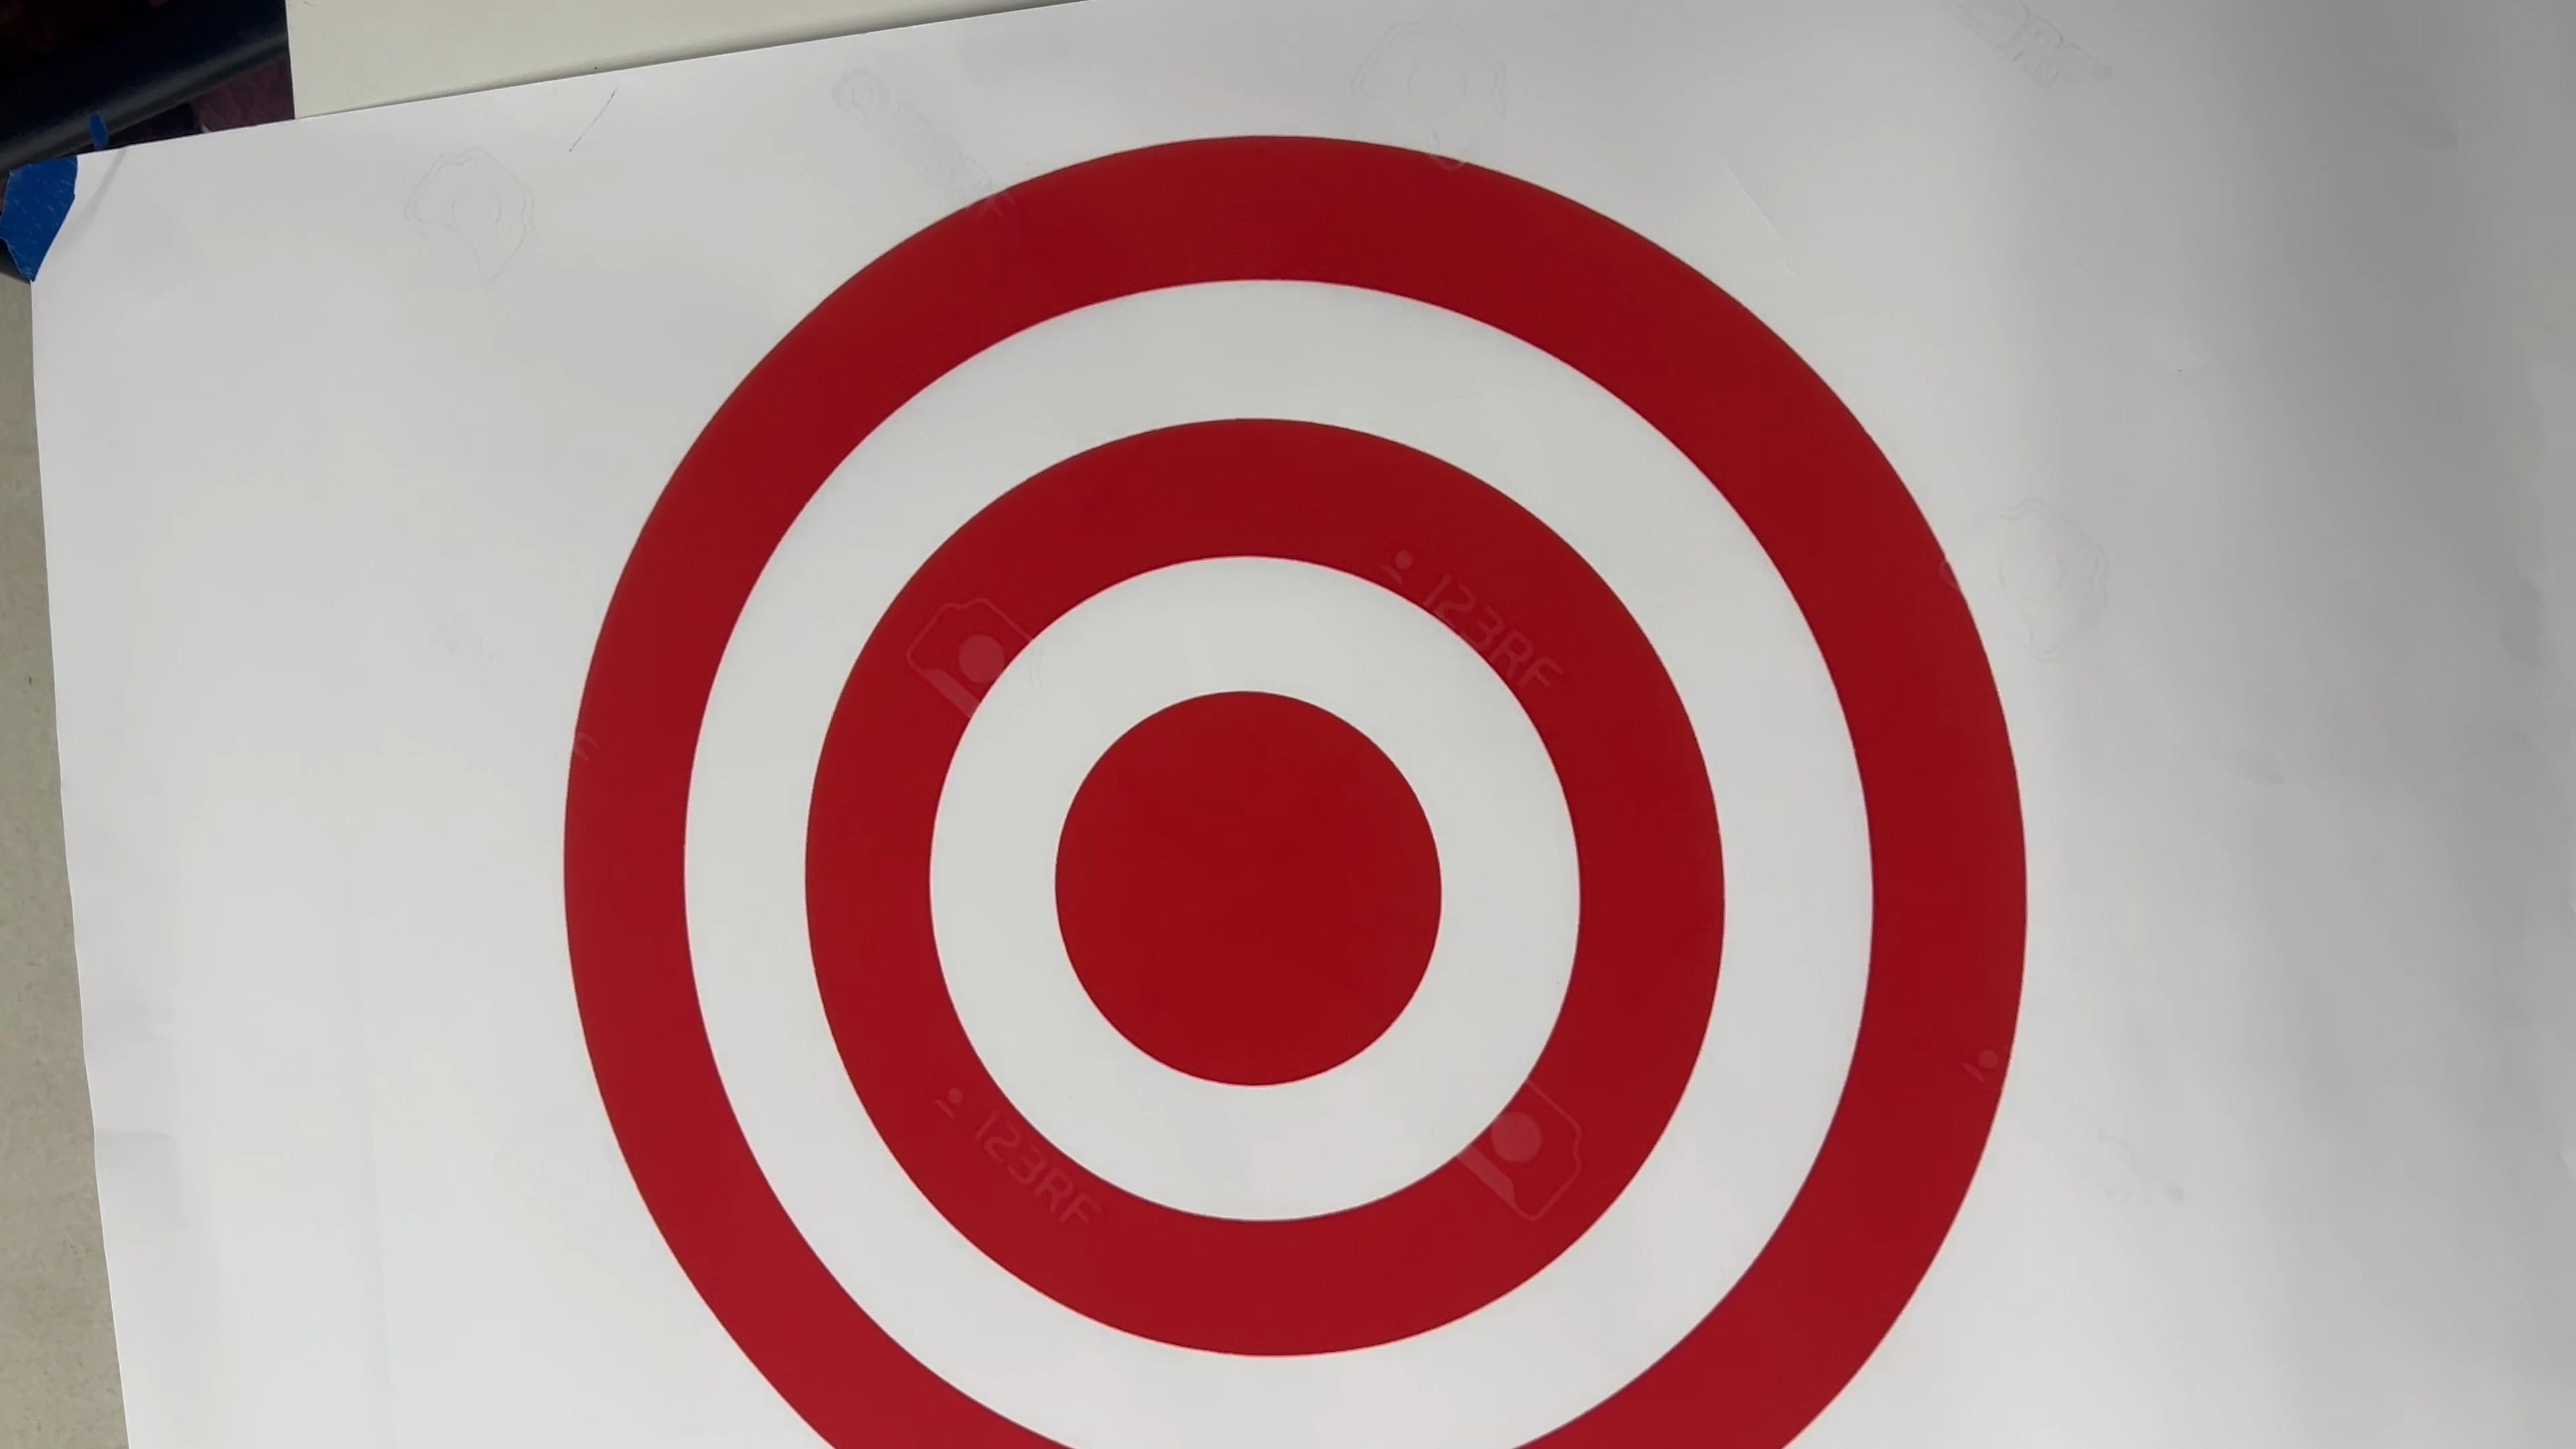target_red: (430, 96, 2088, 1449)
